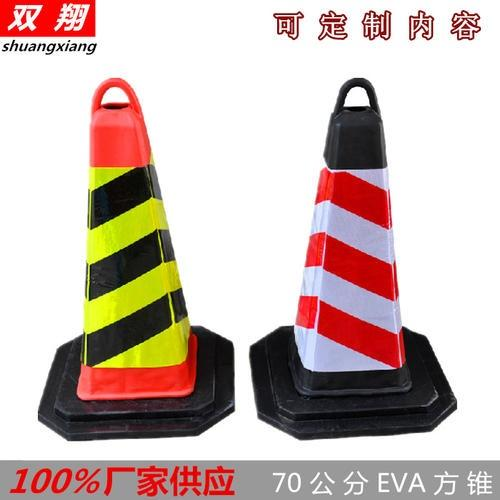cone_barrel: (40, 84, 215, 423), (270, 89, 440, 401)
